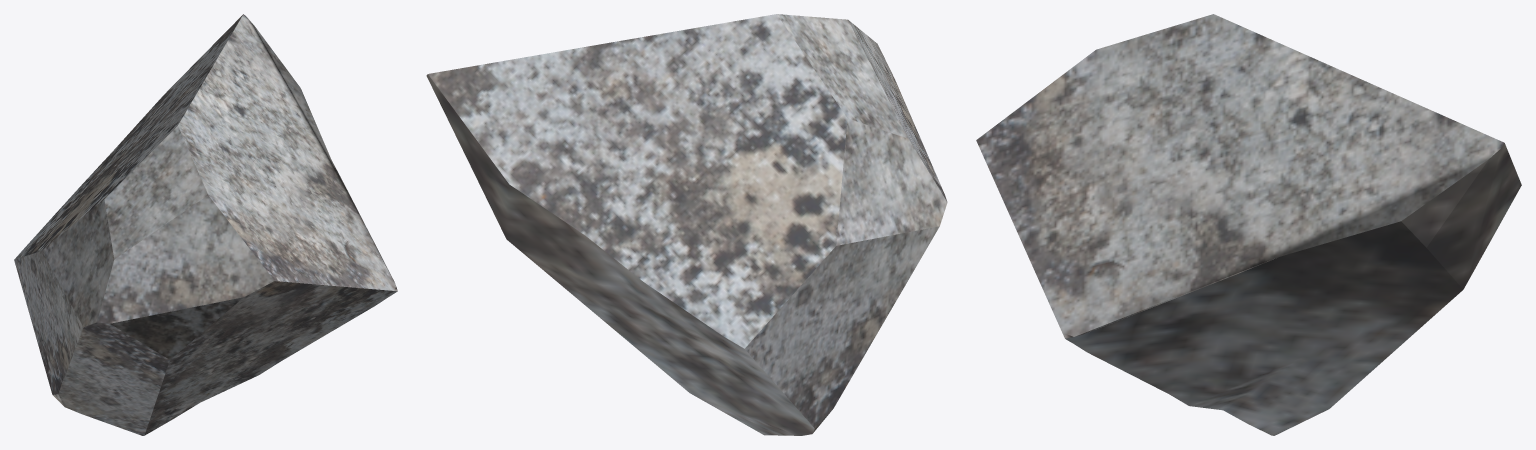
The model's file is Asteroid_Medium_001_02_006_03_007.fbx.
3 views of the same model, side by side, from view 1: azimuth 30°, elevation 25°; view 2: azimuth 150°, elevation 25°; view 3: azimuth 270°, elevation 25° (orthographic). The views are drawn at different scales.
Visible parts, largest first — view 1: Asteroid_Medium_001_02_006_03_007; view 2: Asteroid_Medium_001_02_006_03_007; view 3: Asteroid_Medium_001_02_006_03_007.
Part boxes in pixels (bbox=[...]): Asteroid_Medium_001_02_006_03_007: bbox=[14, 14, 397, 435]; Asteroid_Medium_001_02_006_03_007: bbox=[426, 14, 947, 435]; Asteroid_Medium_001_02_006_03_007: bbox=[976, 14, 1521, 435].
Size of the model in its own units: 8.33 by 8.39 by 9.65.
